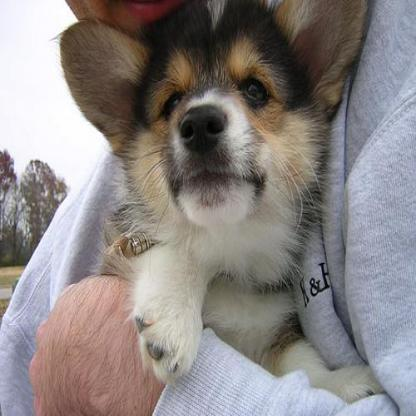Pembroke: (54, 0, 375, 383)
